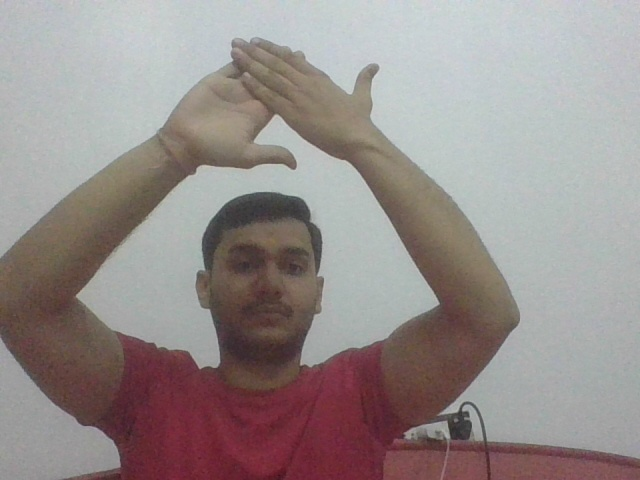H: (165, 33, 386, 180)
